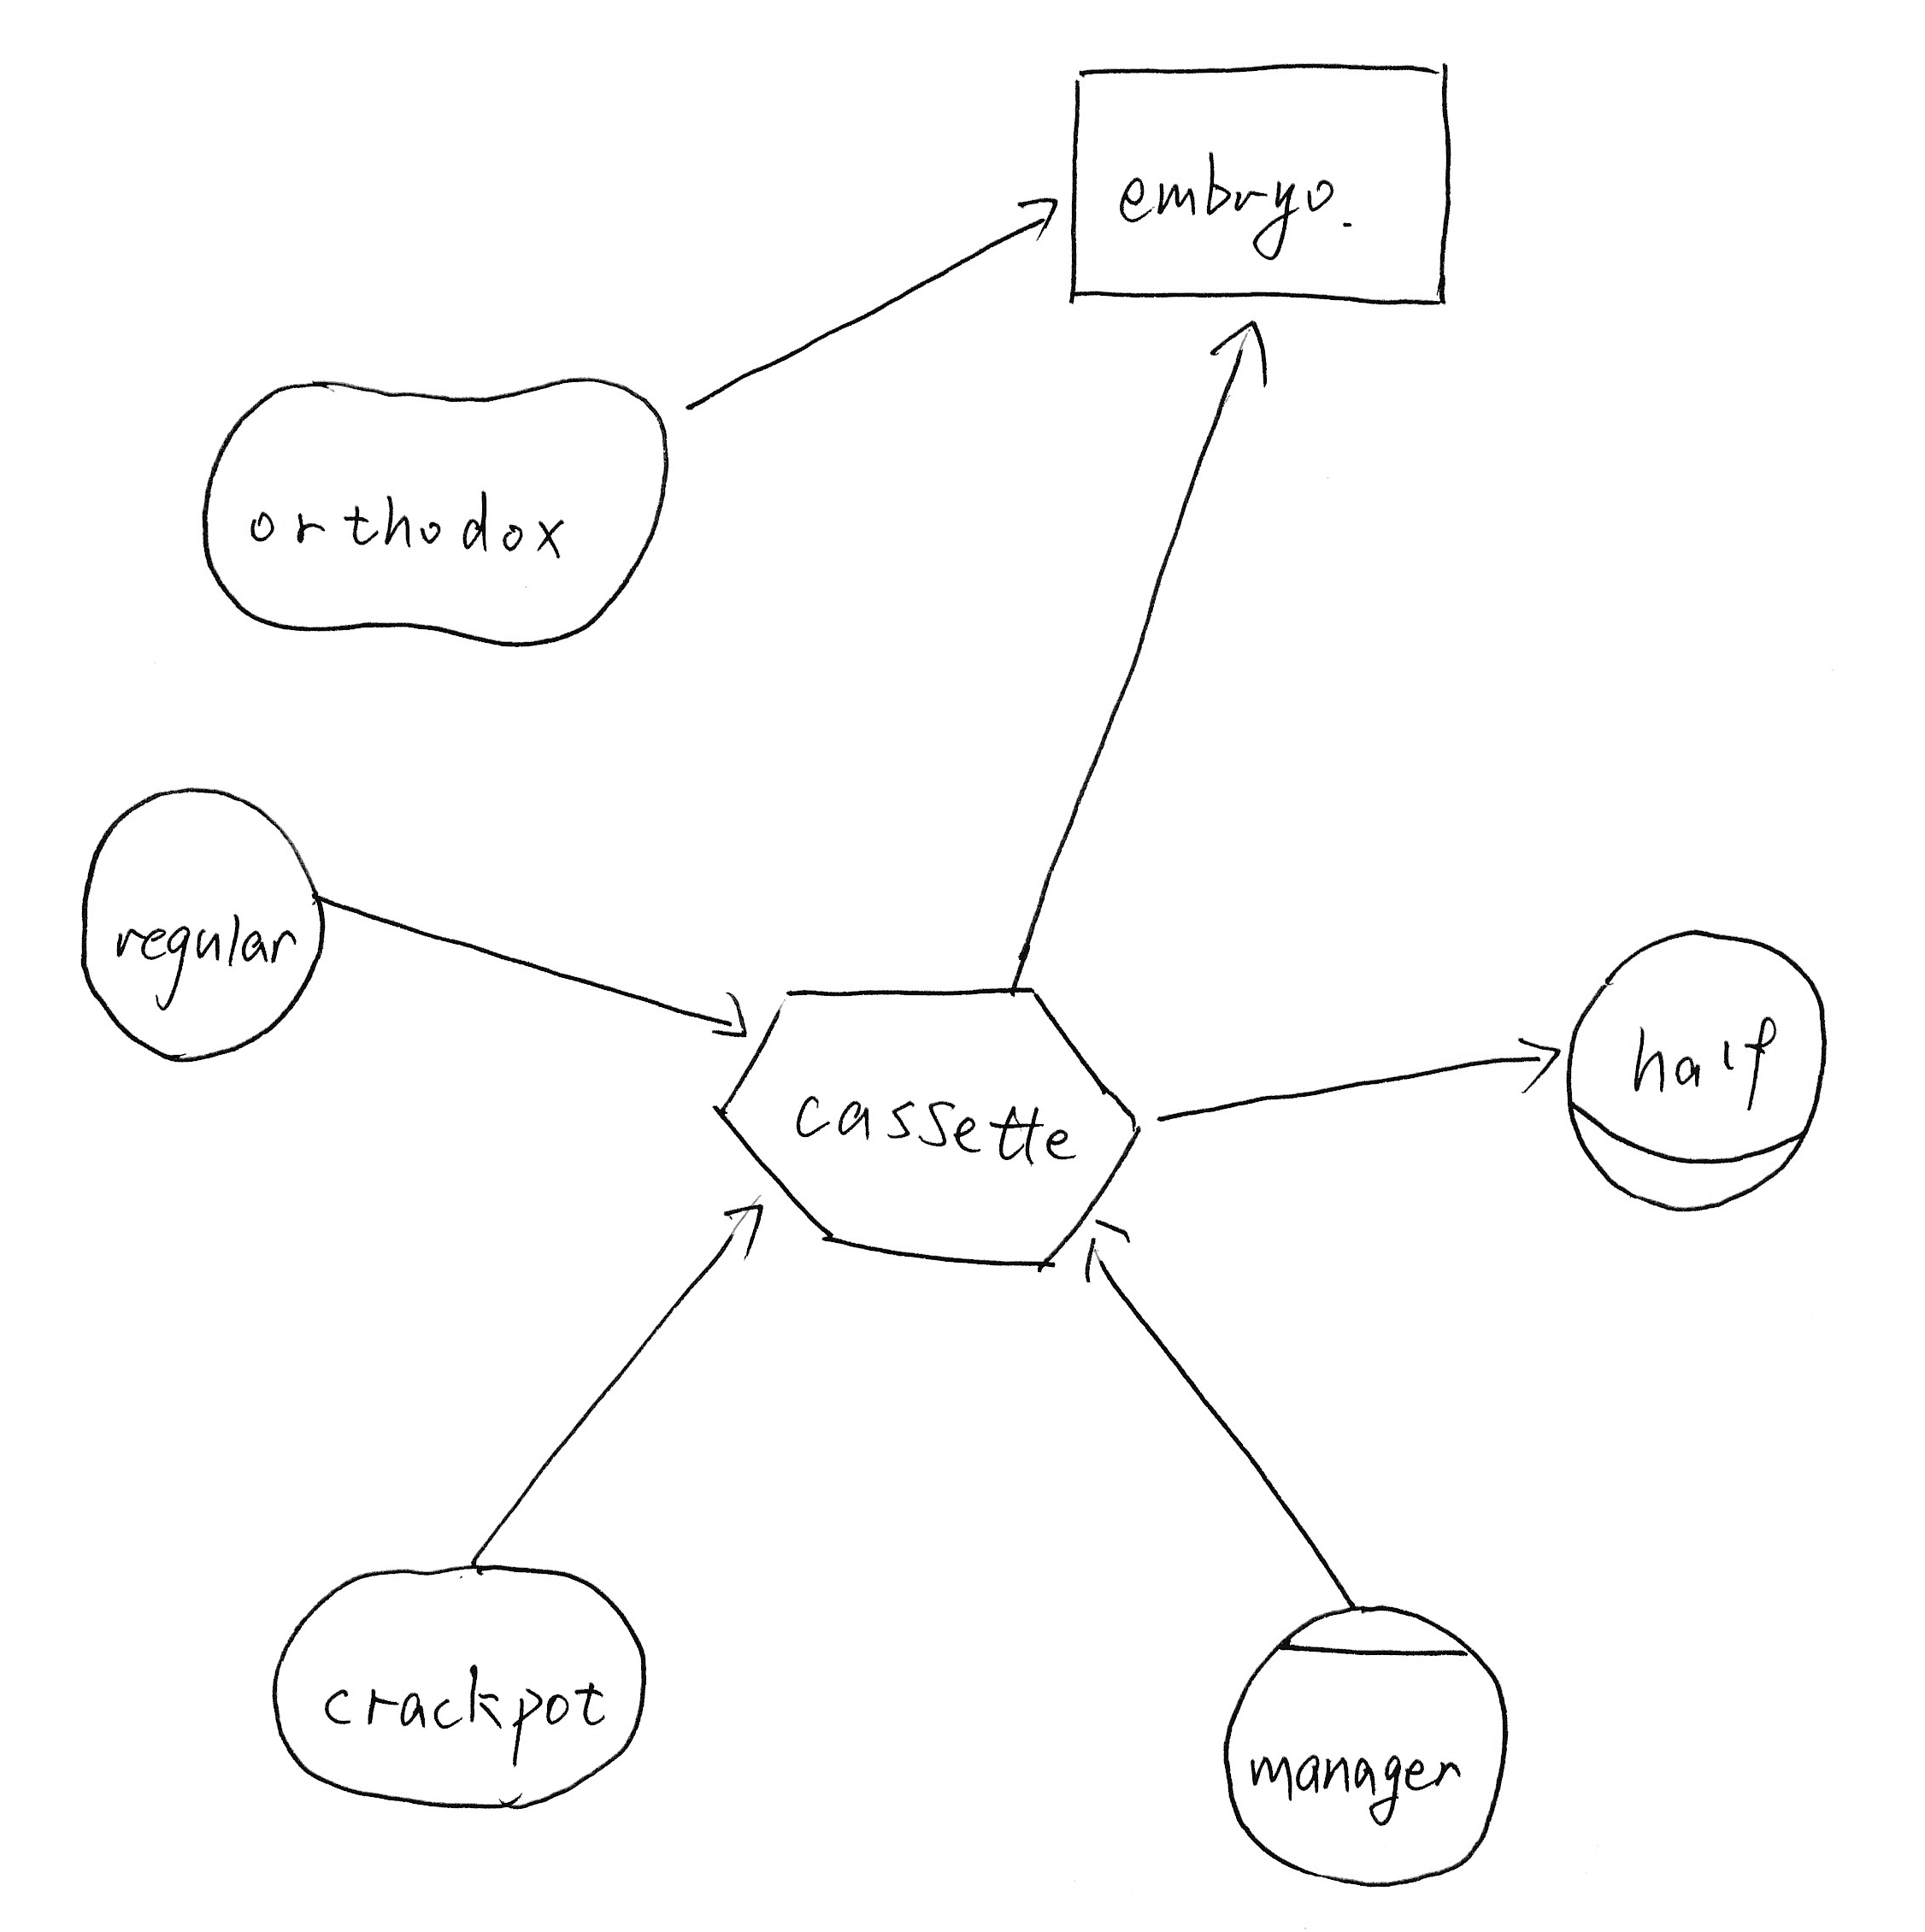actor: (69, 765, 340, 1074)
agent: (1206, 1592, 1521, 1904)
arrow: (1186, 301, 1283, 405), (1068, 1209, 1144, 1301), (710, 1178, 777, 1266), (687, 973, 753, 1054), (1001, 180, 1065, 256), (1505, 1022, 1565, 1102)
goal: (249, 1541, 663, 1824)
quality: (183, 346, 687, 670)
resource: (1054, 48, 1474, 328)
role: (1553, 911, 1839, 1223)
task: (700, 962, 1156, 1285)
